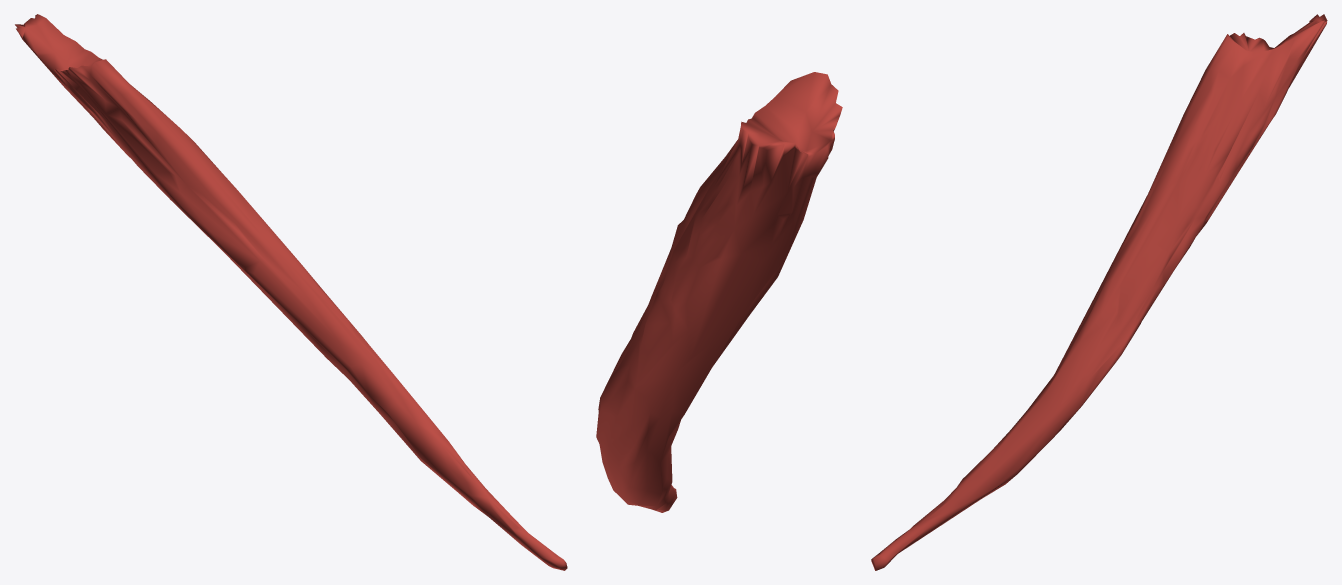
The model's file is musculos-posterior-belly-of-digastric-muscle-r.glb.
3 renders of one model, left to right at view 1: azimuth 30°, elevation 25°; view 2: azimuth 150°, elevation 25°; view 3: azimuth 270°, elevation 25°, orthographic. The views are drawn at different scales.
Visible parts, largest first — view 1: Posterior belly of digastric muscle.r; view 2: Posterior belly of digastric muscle.r; view 3: Posterior belly of digastric muscle.r.
Boxes of the visible parts, left/top/right/bottom form: Posterior belly of digastric muscle.r: left=15, top=14, right=567, bottom=570; Posterior belly of digastric muscle.r: left=596, top=72, right=842, bottom=512; Posterior belly of digastric muscle.r: left=871, top=14, right=1327, bottom=570.
Bounding box in the file's own units: 0.0469 × 0.0641 × 0.0631.
